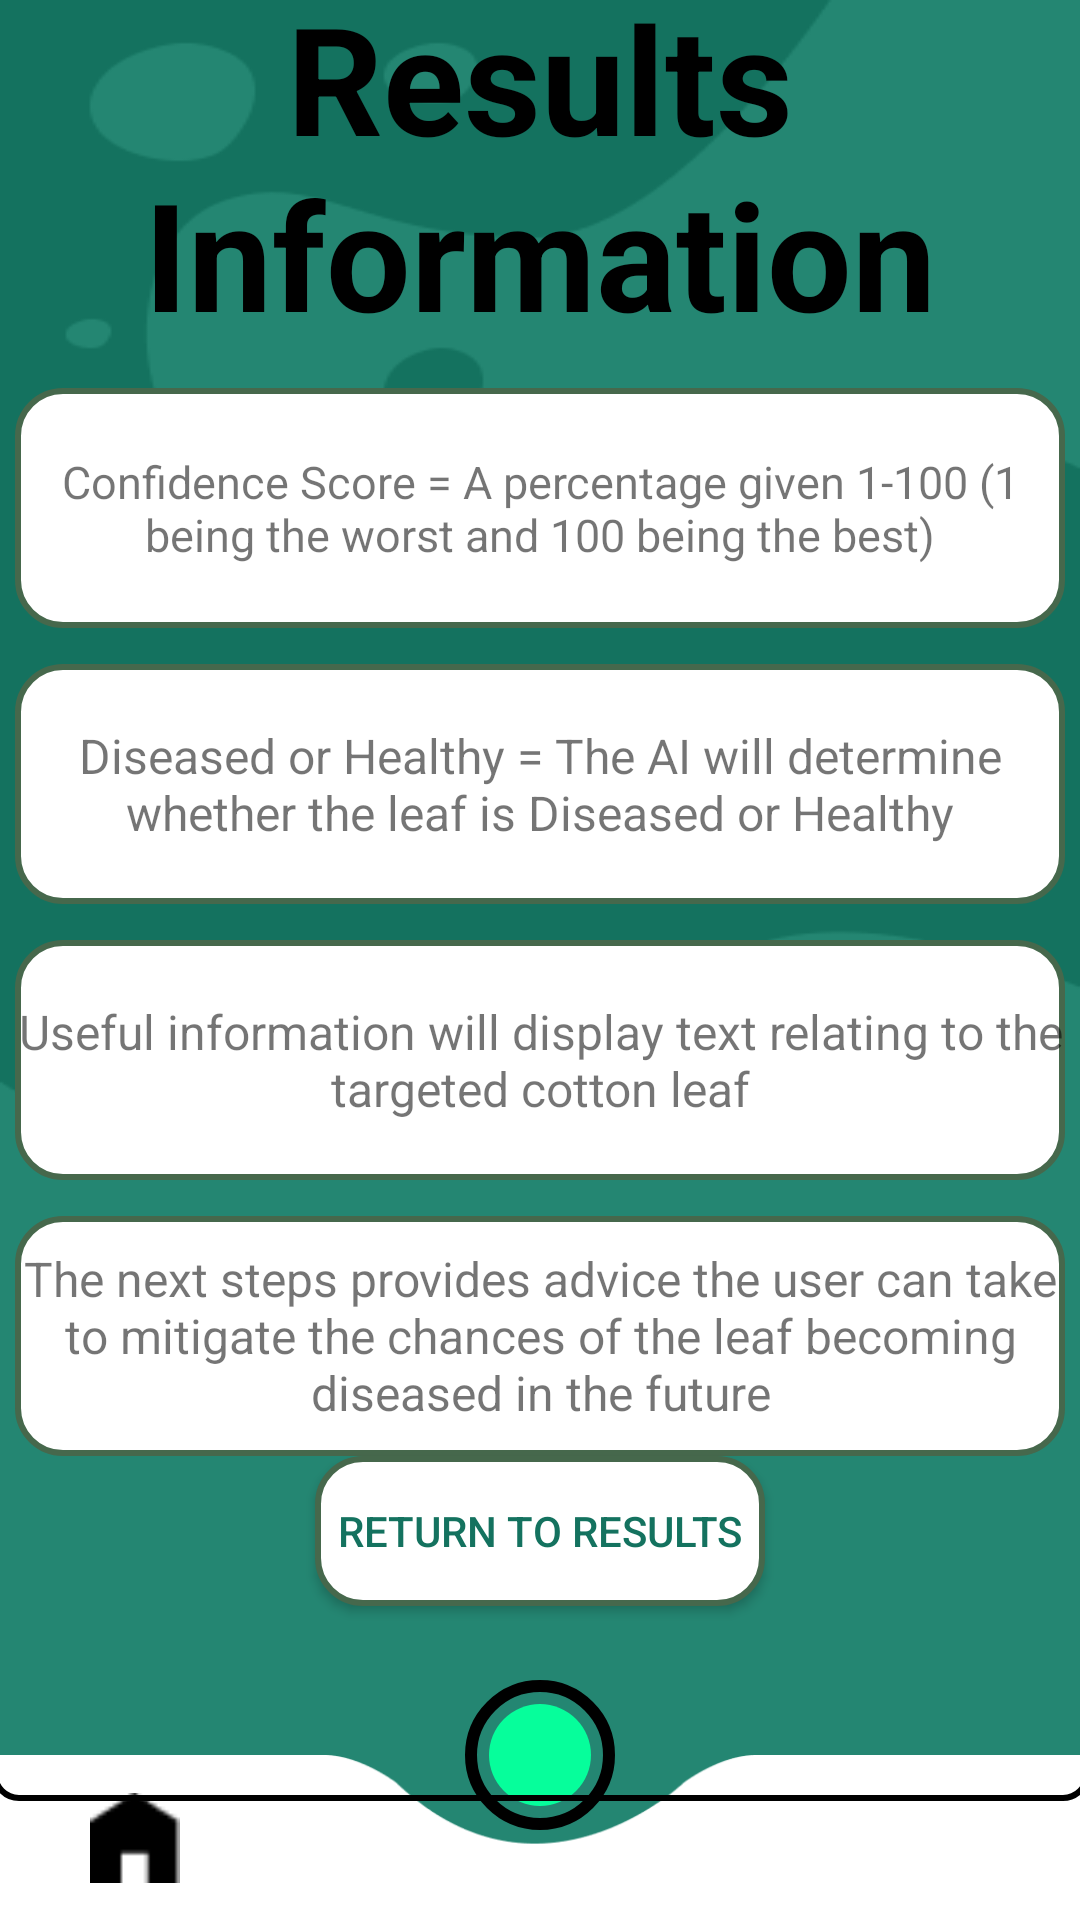

Icon click points for this 1080*1920 phone screenshot, format point (x, y):
takephoto: point (540, 1755)
